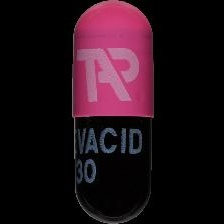21695-652: (0, 0, 224, 224)
